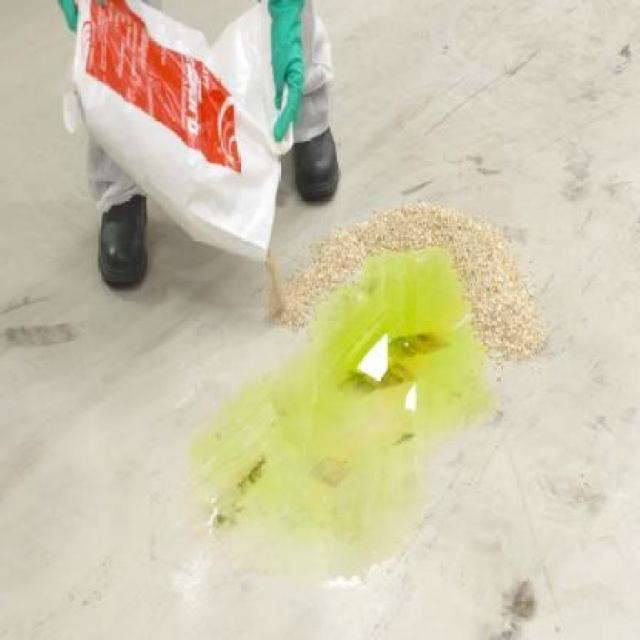spillage: (194, 246, 502, 568)
